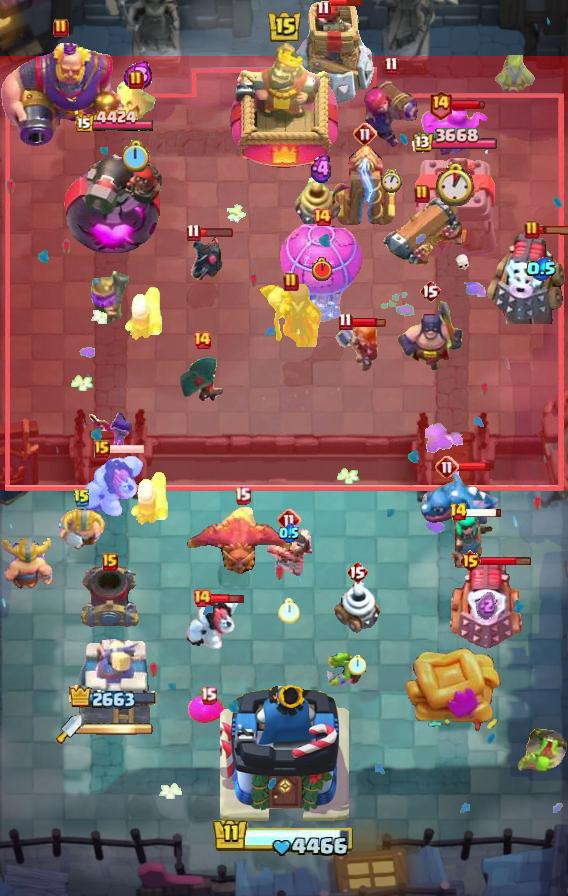bandit: (179, 355, 225, 403)
bar: (479, 556, 532, 567), (210, 592, 245, 605), (108, 443, 145, 455), (450, 99, 486, 111), (351, 316, 386, 328), (466, 507, 503, 518), (198, 227, 234, 238), (457, 461, 491, 472), (537, 225, 568, 236), (329, 0, 363, 7)
bar-level: (428, 89, 453, 120), (277, 508, 301, 532), (435, 455, 459, 479), (353, 122, 377, 146), (459, 549, 482, 573), (346, 560, 368, 584), (419, 279, 441, 303), (192, 588, 212, 608), (192, 330, 212, 350), (312, 207, 332, 227), (449, 502, 468, 522), (73, 488, 91, 508), (200, 686, 217, 705), (234, 486, 251, 505), (283, 272, 299, 292), (524, 220, 540, 240), (414, 184, 430, 204), (128, 70, 144, 90), (53, 18, 69, 38), (102, 553, 118, 571), (94, 440, 110, 458), (338, 312, 353, 331), (186, 223, 201, 242), (384, 56, 399, 75), (316, 0, 331, 19)
cannoneer-tower: (64, 138, 164, 256)
clock: (434, 162, 477, 207), (123, 140, 150, 172), (278, 598, 300, 624), (381, 169, 402, 193), (312, 257, 332, 281), (348, 654, 366, 675)
dagger-duchess-tower: (77, 637, 151, 731)
dagger-duchess-tower-bar: (82, 722, 154, 736)
electro-dragon: (419, 466, 503, 530)
elite-barbarian: (0, 538, 56, 592), (58, 507, 106, 550)
elixir: (119, 61, 154, 89), (308, 154, 336, 184), (526, 257, 557, 281), (476, 592, 497, 619), (279, 523, 299, 543)
elixir-golem-mid: (421, 105, 489, 157)
elixir-golem-small: (188, 696, 228, 724)
executioner: (396, 295, 464, 373)
firecracker: (128, 469, 170, 527), (122, 284, 164, 342)
firecracker-evolution: (362, 72, 420, 150)
goblin: (491, 55, 535, 97), (323, 648, 363, 686)
goblin-ball: (514, 727, 568, 775)
heal-spirit: (114, 79, 158, 123)
king-tower: (220, 678, 349, 826), (230, 43, 338, 181)
king-tower-bar: (212, 817, 356, 859)
mini-pekka: (188, 235, 226, 285)
mortar: (79, 563, 141, 631)
musketeer: (89, 271, 133, 325)
princess: (263, 526, 315, 578)
queen-tower: (408, 158, 499, 256)
rascal-girl: (447, 512, 495, 570)
skeleton-evolution: (86, 411, 138, 453)
tesla: (331, 142, 399, 228)
tower-bar: (69, 685, 159, 712), (410, 128, 497, 155), (74, 109, 155, 135)
valkyrie: (334, 323, 380, 373)
witch: (259, 281, 323, 347)
zappy: (291, 176, 353, 232), (332, 578, 382, 634)
